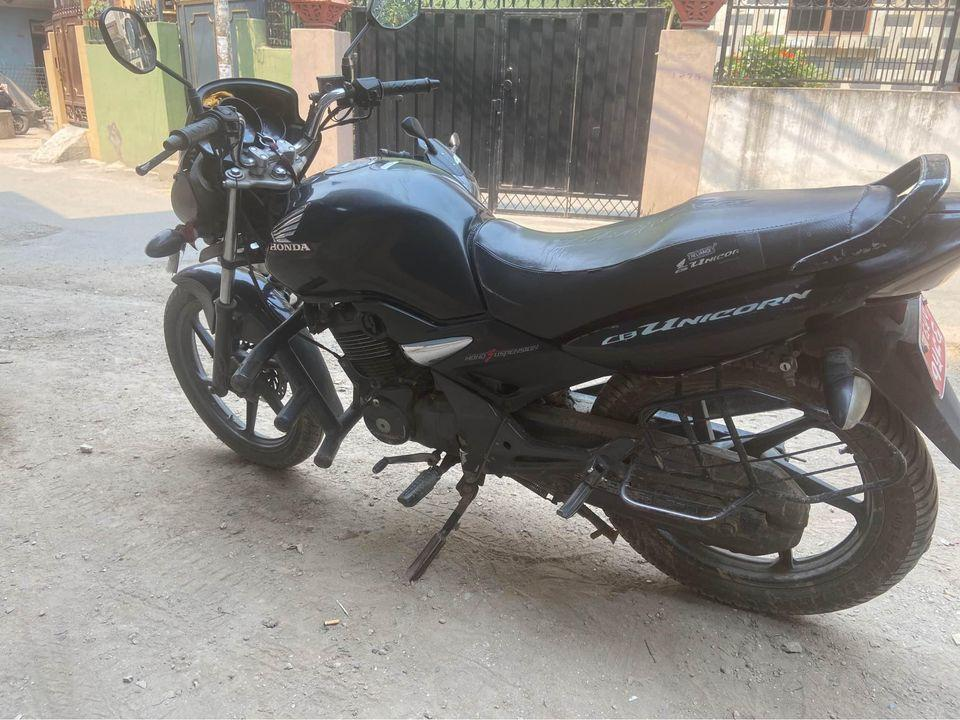bike: (86, 0, 960, 630)
